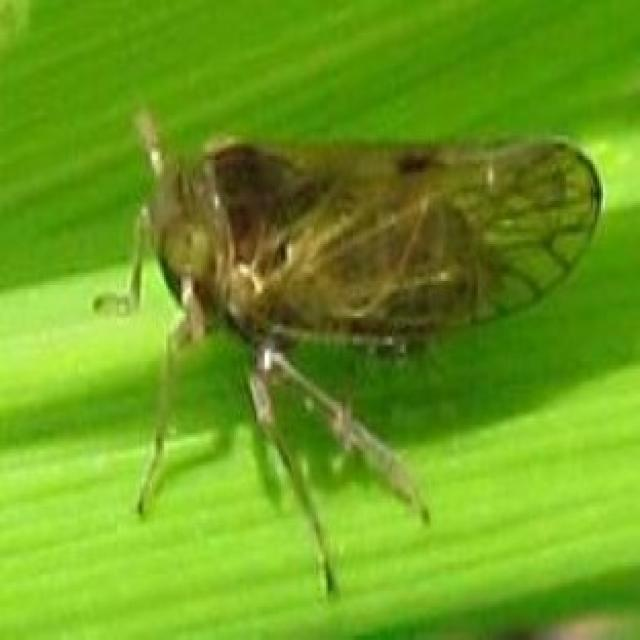brown plant hopper: (94, 113, 601, 593)
